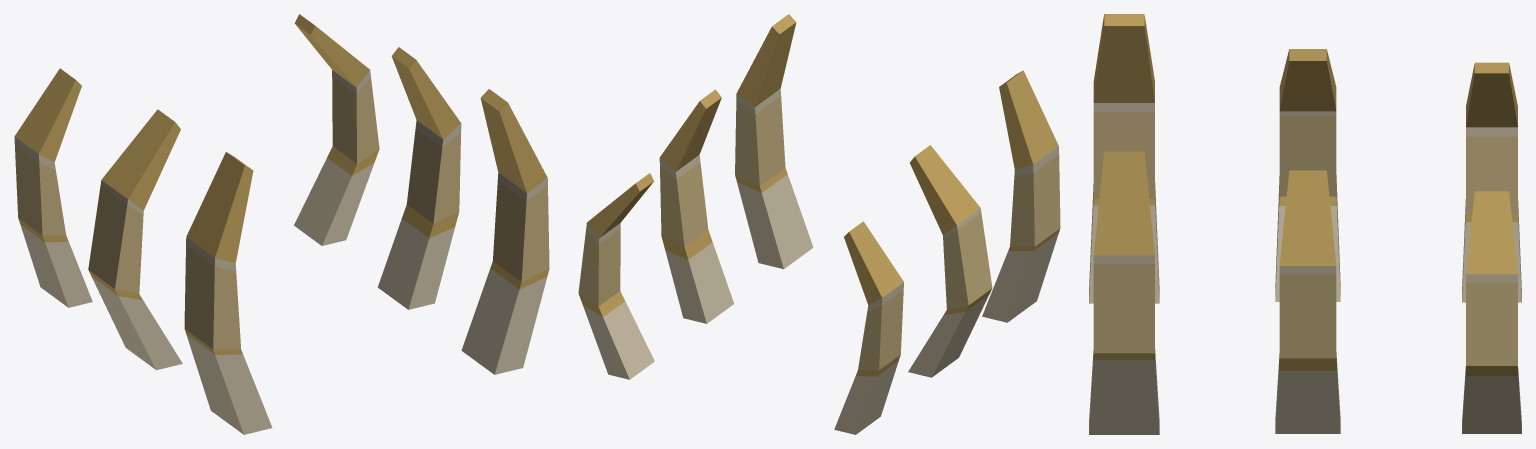
The model's file is pilhaOssinhos.fbx.
3 renders of one model, left to right at view 1: azimuth 30°, elevation 25°; view 2: azimuth 150°, elevation 25°; view 3: azimuth 270°, elevation 25°, orthographic. The views are drawn at different scales.
Visible parts, largest first — view 1: PilhaOssinhos; view 2: PilhaOssinhos; view 3: PilhaOssinhos.
Boxes of the visible parts, box(x1,y1,x2,y2) form: PilhaOssinhos: box(14, 14, 549, 434); PilhaOssinhos: box(578, 14, 1060, 434); PilhaOssinhos: box(1089, 14, 1521, 434).
Bounding box in the file's own units: 70 × 50 × 70.
